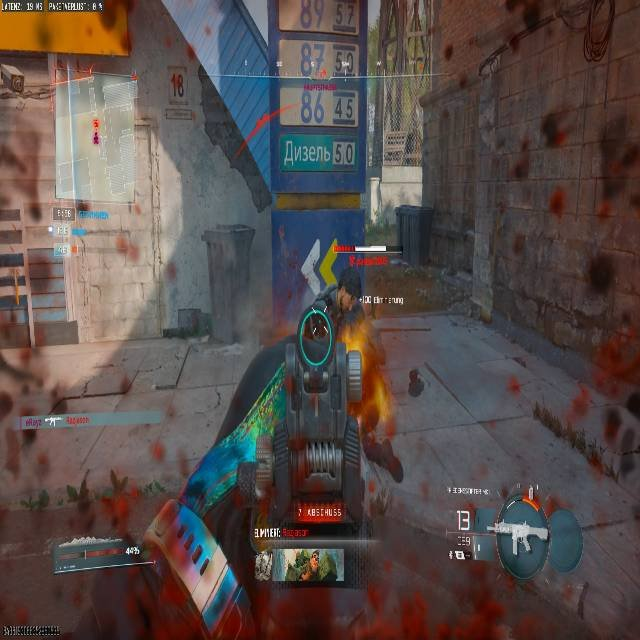head: (337, 268, 362, 303)
player: (300, 266, 403, 484)
